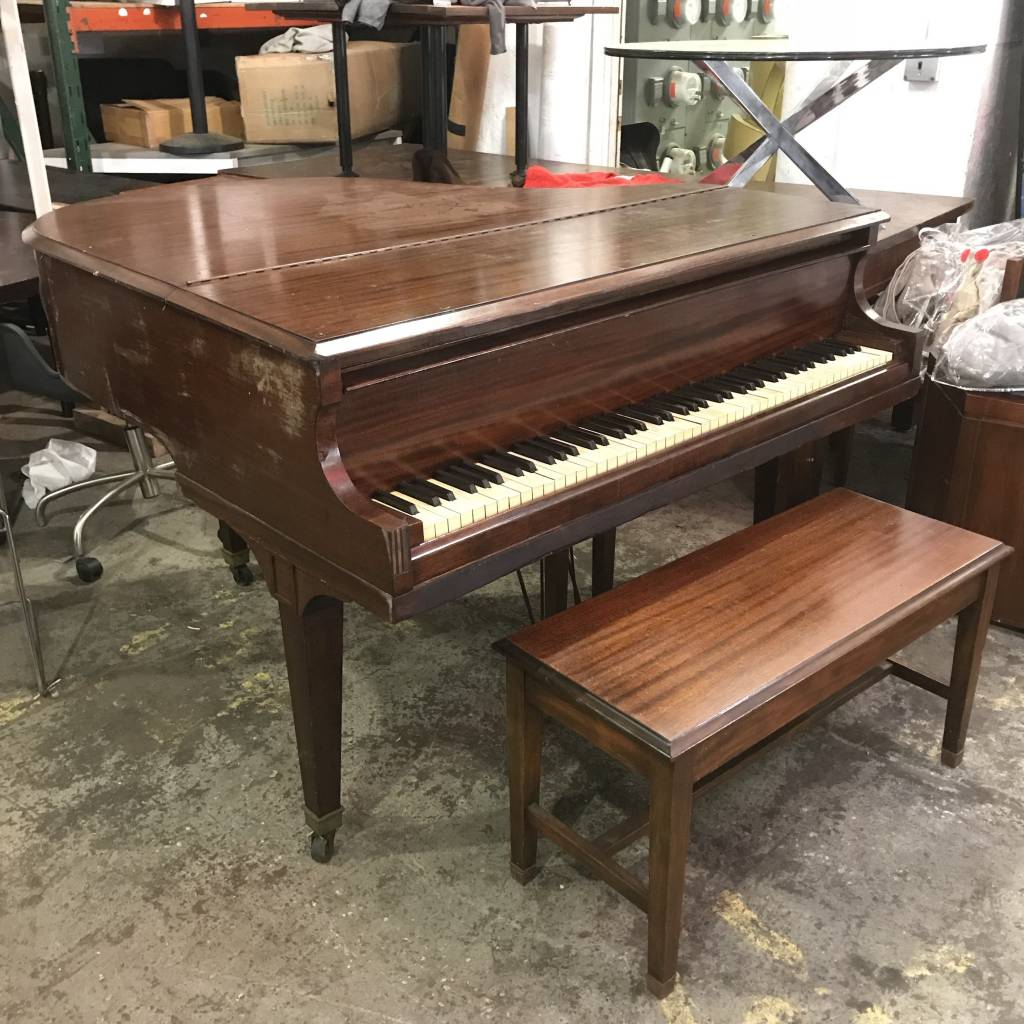GrandPiano: (34, 189, 927, 463)
